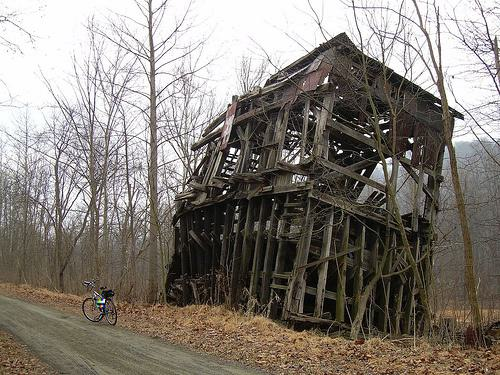car: (81, 280, 121, 326)
